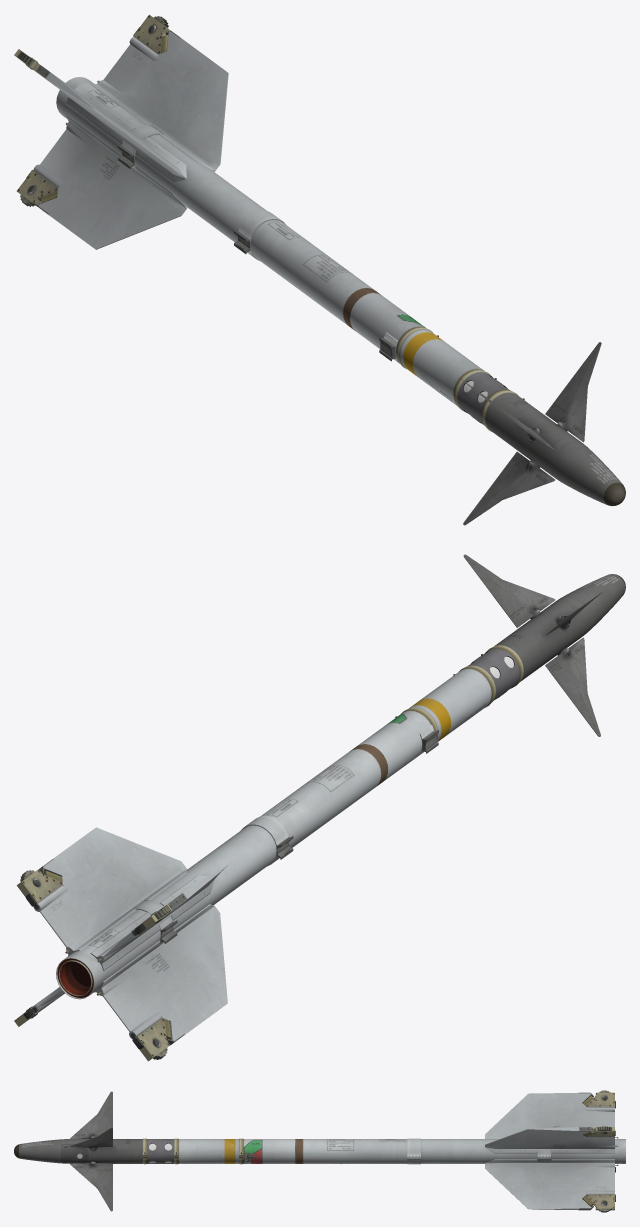
The model's file is AIM9_master.glb.
The picture shows the model from 3 angles, top to bottom: view 1: azimuth 30°, elevation 25°; view 2: azimuth 150°, elevation 25°; view 3: azimuth 270°, elevation 25°; orthographic projection. The views are drawn at different scales.
Parts seen in each view (by area): view 1: missile AIM-9; view 2: missile AIM-9; view 3: missile AIM-9.
Boxes of the visible parts, x1,y1,x2,y2 form: missile AIM-9: (14,14,625,525); missile AIM-9: (14,554,625,1061); missile AIM-9: (14,1090,625,1212).
Size of the model in its own units: 0.6813 by 0.6828 by 4.34.
Materials: 2 (1 with a texture image).
